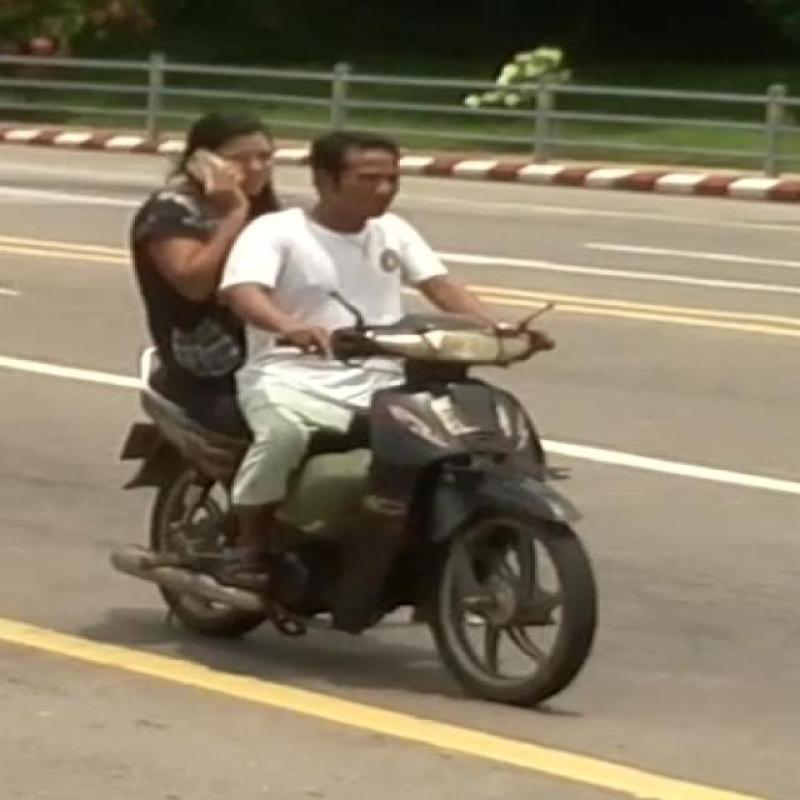nohelmet: (148, 73, 302, 206), (301, 120, 420, 202)
